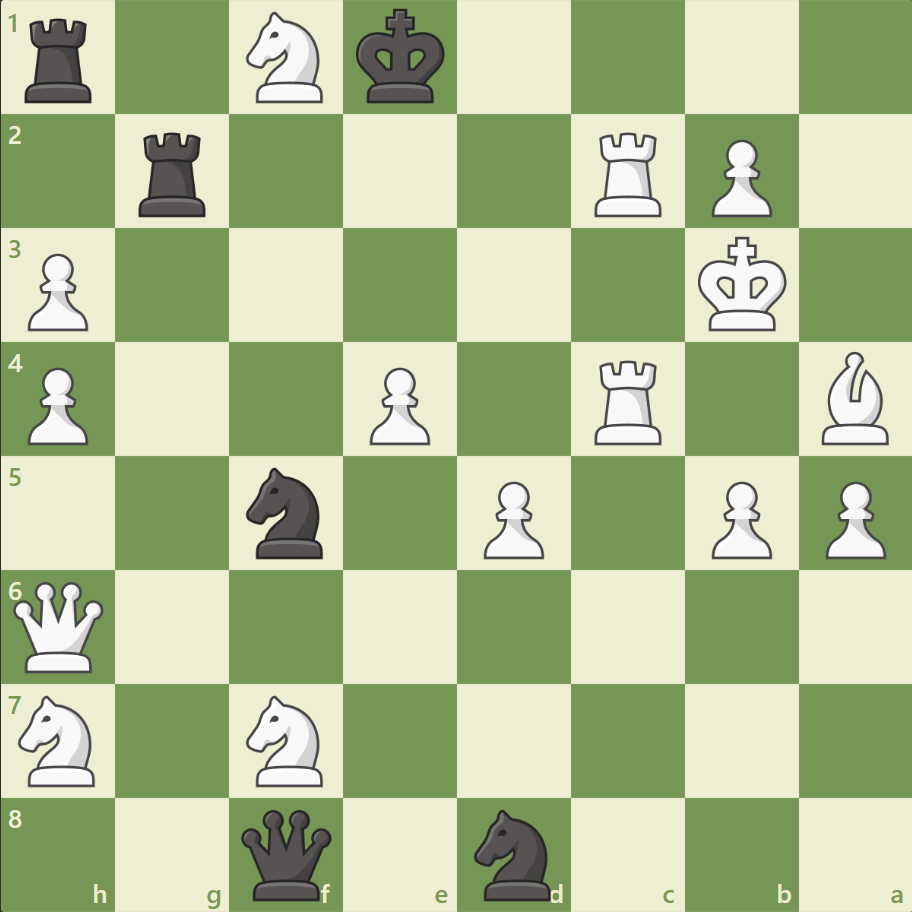B: (812, 347, 896, 449)
K: (692, 231, 792, 339)
N: (238, 688, 335, 791), (11, 688, 108, 791), (238, 7, 335, 110)
P: (701, 473, 776, 564), (474, 473, 549, 564), (20, 359, 95, 450), (20, 246, 95, 337), (701, 132, 776, 223), (815, 473, 889, 564), (361, 359, 435, 450)
Q: (10, 576, 109, 676)
R: (587, 352, 670, 449), (587, 125, 670, 222)
k: (351, 4, 451, 112)
n: (238, 461, 335, 564), (465, 802, 562, 904)
q: (237, 804, 336, 903)
r: (19, 12, 102, 109), (133, 125, 215, 222)
